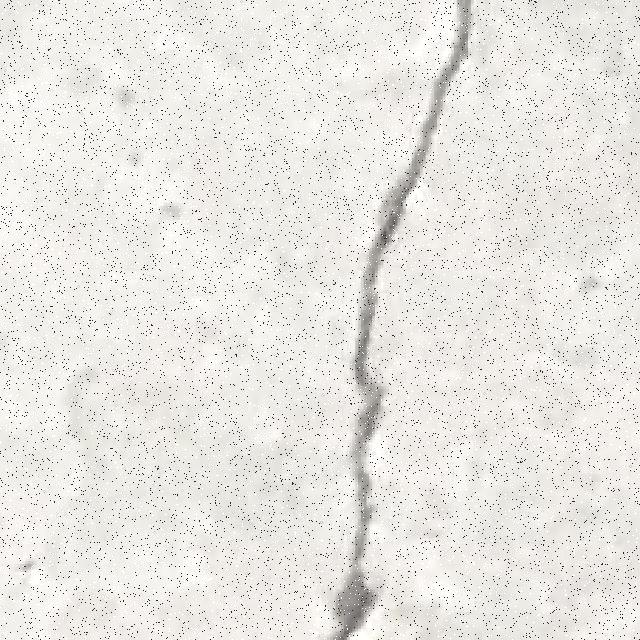crack: (327, 0, 474, 637)
